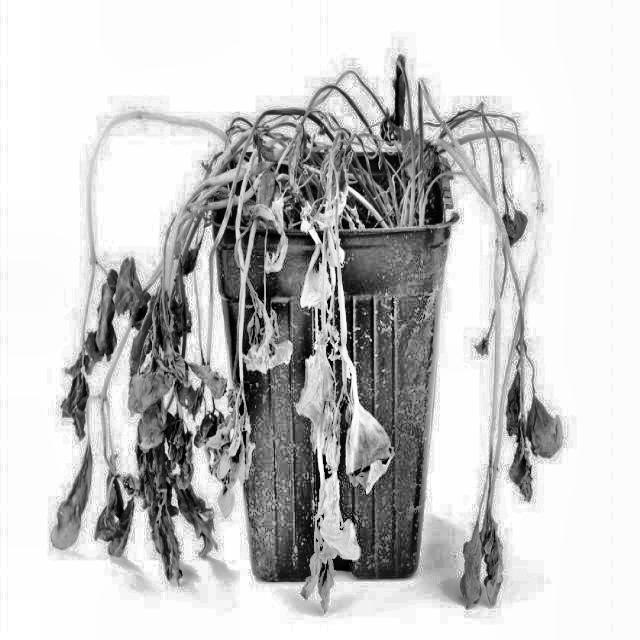plants: (49, 57, 577, 614)
